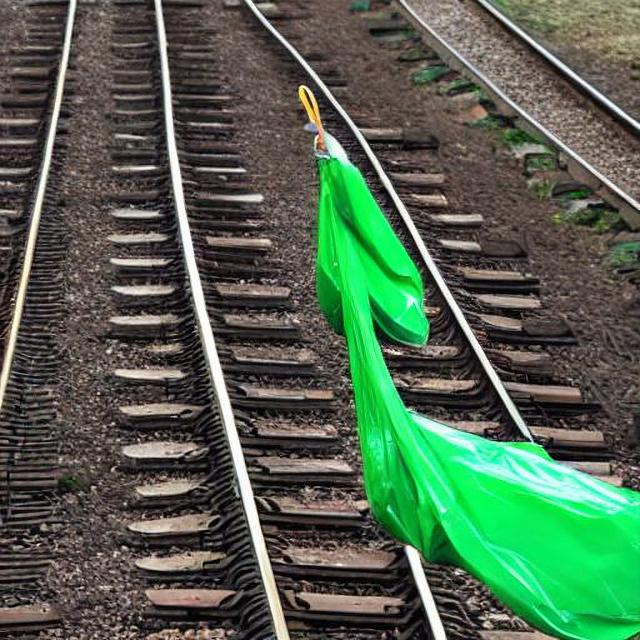floating object: (286, 38, 638, 635)
